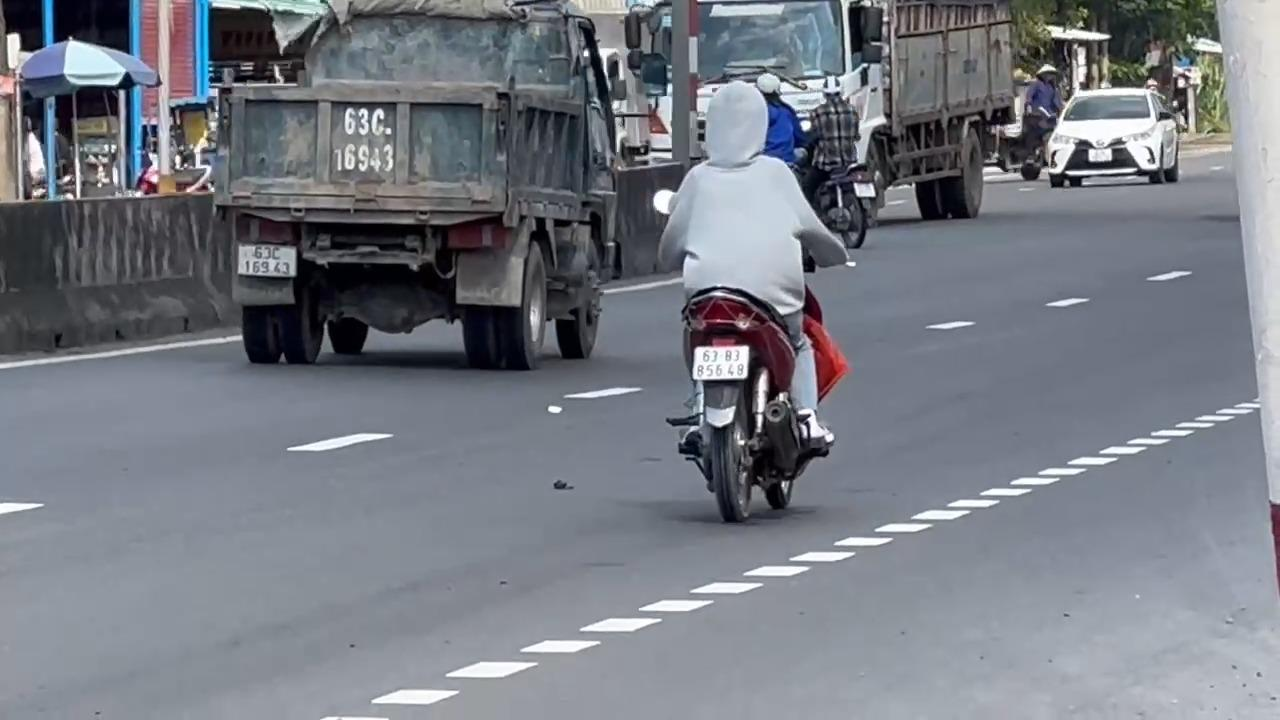bien_so: (237, 242, 297, 278), (691, 344, 749, 380)
